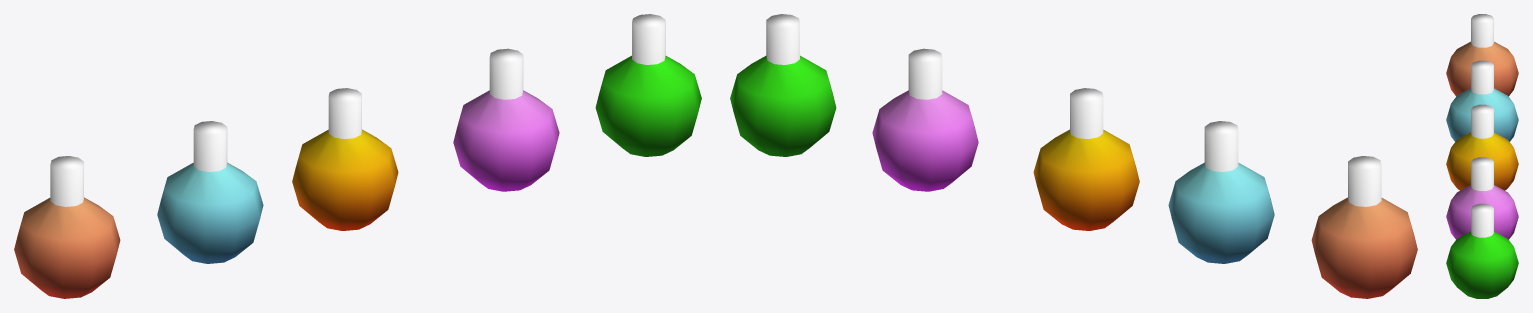
File: Potion.fbx
The picture shows the model from 3 angles, left to right: view 1: azimuth 30°, elevation 25°; view 2: azimuth 150°, elevation 25°; view 3: azimuth 270°, elevation 25°; orthographic projection. The views are drawn at different scales.
Parts seen in each view (by area): view 1: potion Ungu, Potion Sheild, potion hijau, potion orange, Potion health; view 2: potion Ungu, Potion Sheild, potion hijau, potion orange, Potion health; view 3: potion hijau, potion orange, Potion health, potion Ungu, Potion Sheild.
Boxes of the visible parts, x1,y1,x2,y2 form: potion Ungu: [453, 48, 559, 191]; Potion Sheild: [157, 121, 263, 263]; potion hijau: [595, 14, 701, 156]; potion orange: [292, 88, 398, 230]; Potion health: [14, 156, 120, 298]; potion Ungu: [872, 48, 978, 191]; Potion Sheild: [1168, 121, 1274, 263]; potion hijau: [730, 14, 836, 156]; potion orange: [1033, 88, 1139, 230]; Potion health: [1311, 156, 1417, 298]; potion hijau: [1446, 203, 1518, 298]; potion orange: [1446, 104, 1518, 190]; Potion health: [1446, 14, 1518, 96]; potion Ungu: [1446, 157, 1518, 239]; Potion Sheild: [1446, 60, 1518, 141].
Bounding box in the file's own units: 386 × 69.64 × 54.18.
